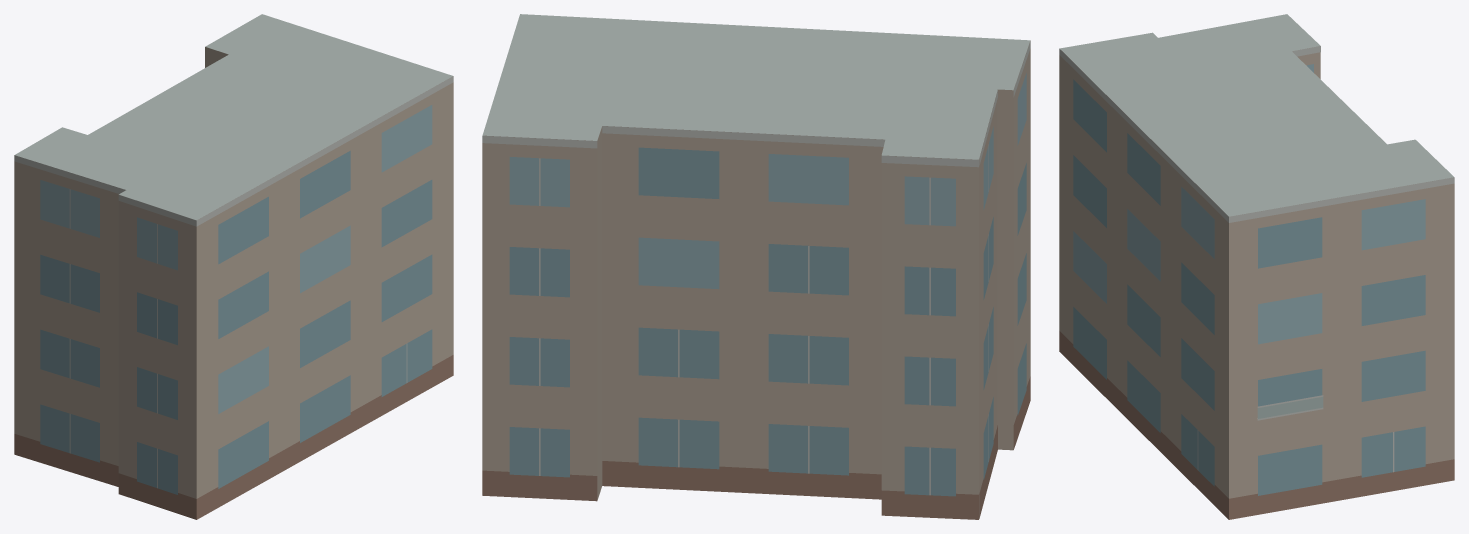
Rendered from survey-upis-32593568.glb.
The picture shows the model from 3 angles, left to right: view 1: azimuth 30°, elevation 25°; view 2: azimuth 150°, elevation 25°; view 3: azimuth 270°, elevation 25°; orthographic projection. The views are drawn at different scales.
Visible parts, largest first — view 1: survey-upis-32593568.tmp; view 2: survey-upis-32593568.tmp; view 3: survey-upis-32593568.tmp.
Part boxes in pixels (<box>): survey-upis-32593568.tmp: <box>14,14,453,519</box>; survey-upis-32593568.tmp: <box>482,14,1030,519</box>; survey-upis-32593568.tmp: <box>1059,14,1454,519</box>.
Bounding box in the file's own units: 16.86 × 11.75 × 13.89.
